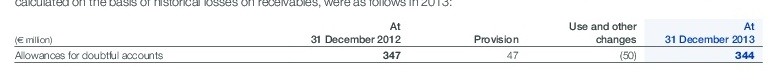table: (0, 0, 776, 81)
